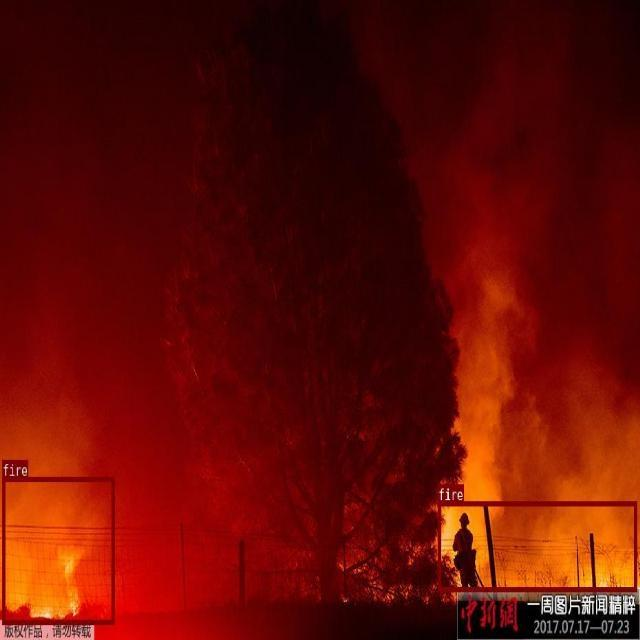fire: (437, 500, 636, 591), (2, 476, 114, 623)
